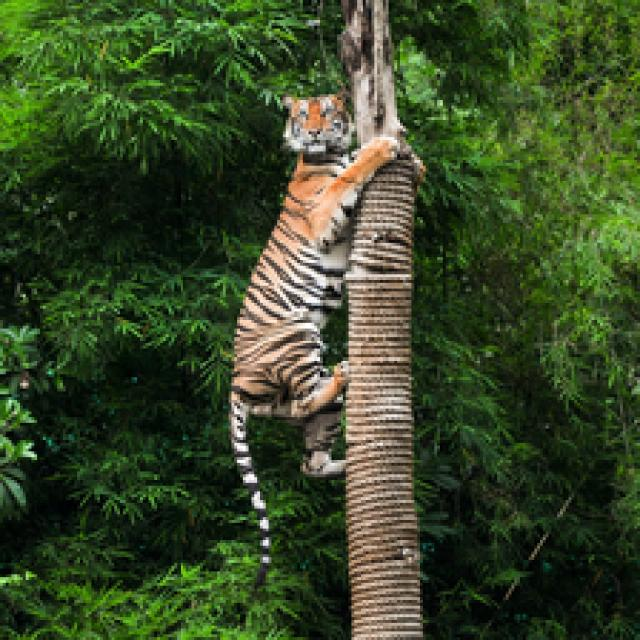tiger: (174, 64, 457, 561)
